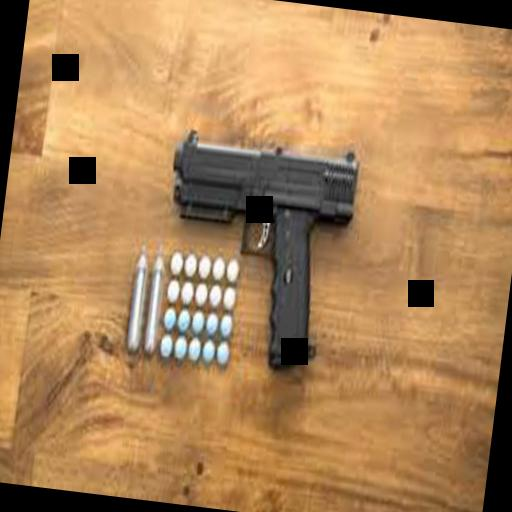Handgun: (148, 124, 362, 376)
